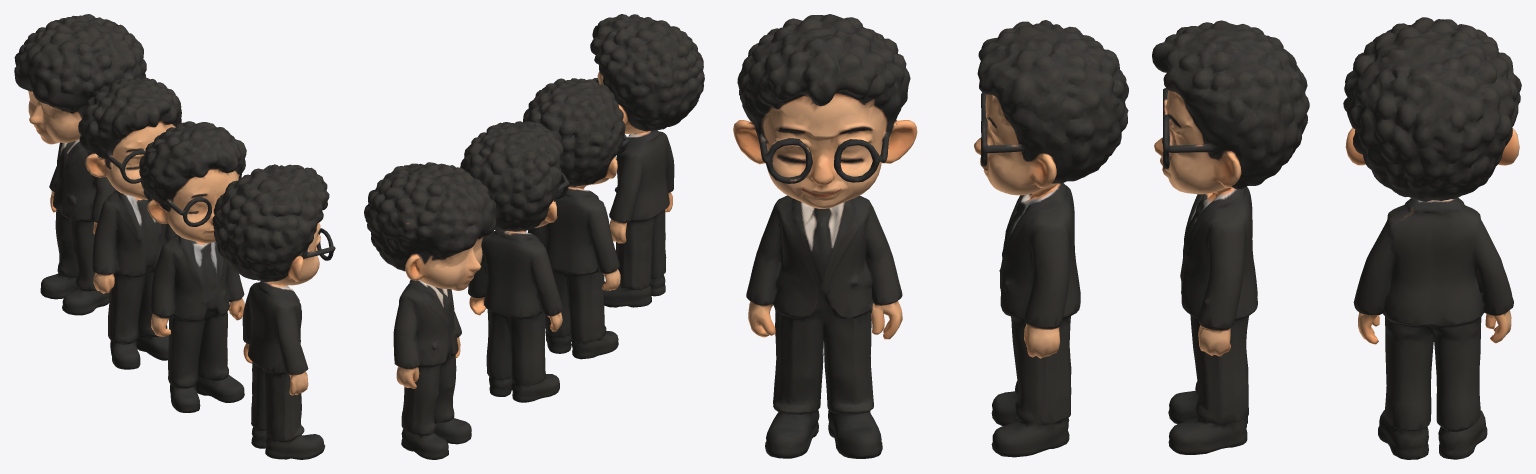
The model's file is chibi-mascot.glb.
3 renders of one model, left to right at view 1: azimuth 30°, elevation 25°; view 2: azimuth 150°, elevation 25°; view 3: azimuth 270°, elevation 25°, orthographic. The views are drawn at different scales.
Visible parts, largest first — view 1: tripo_node_8a1cdce5-d08d-4e85-a3c5-af5b91c6905a; view 2: tripo_node_8a1cdce5-d08d-4e85-a3c5-af5b91c6905a; view 3: tripo_node_8a1cdce5-d08d-4e85-a3c5-af5b91c6905a.
Part boxes in pixels (x1,y1,x2,y2): tripo_node_8a1cdce5-d08d-4e85-a3c5-af5b91c6905a: (14,14,335,459); tripo_node_8a1cdce5-d08d-4e85-a3c5-af5b91c6905a: (364,14,704,459); tripo_node_8a1cdce5-d08d-4e85-a3c5-af5b91c6905a: (733,14,1521,459).
Bounding box in the file's own units: 0.2698 × 0.5824 × 1.
1 material, 1 textured.
